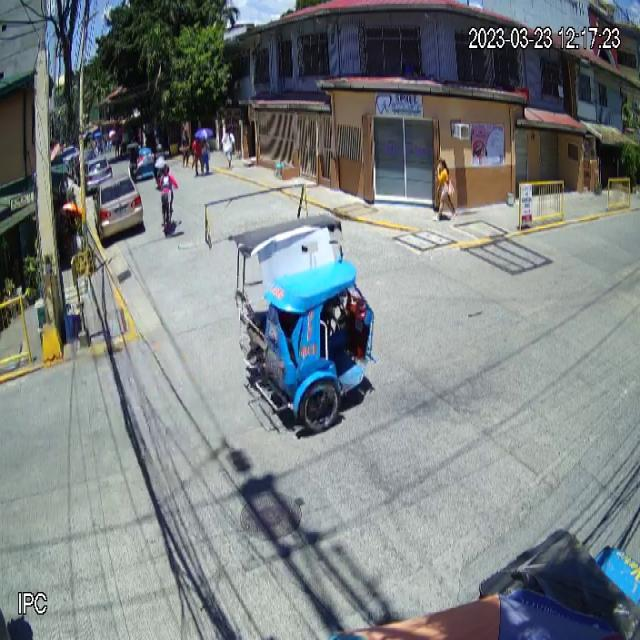Car: (93, 172, 144, 242)
Tricycle: (230, 216, 377, 435)
